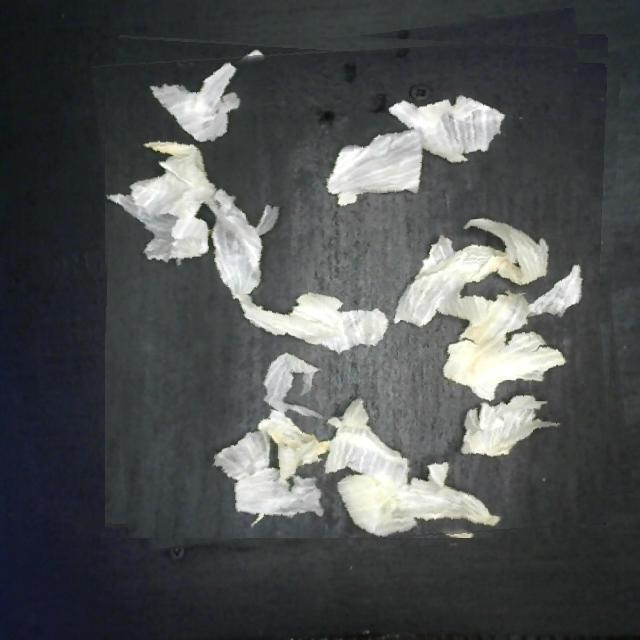biodegradable: (105, 21, 621, 538)
